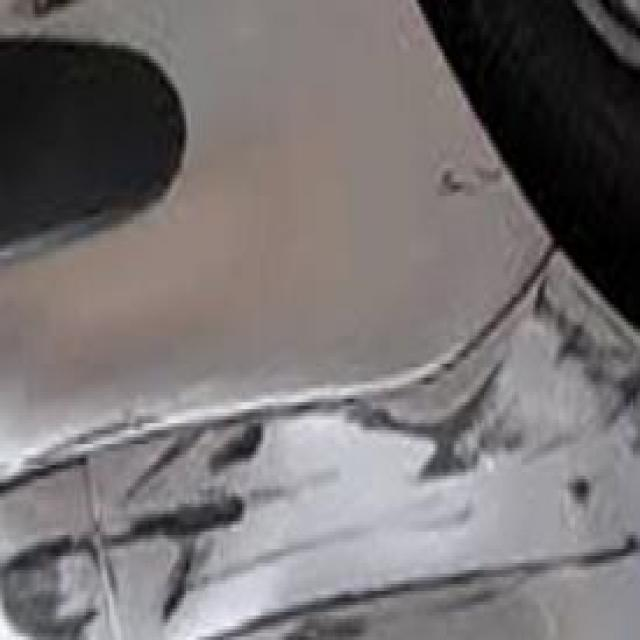scratch: (0, 231, 633, 640)
